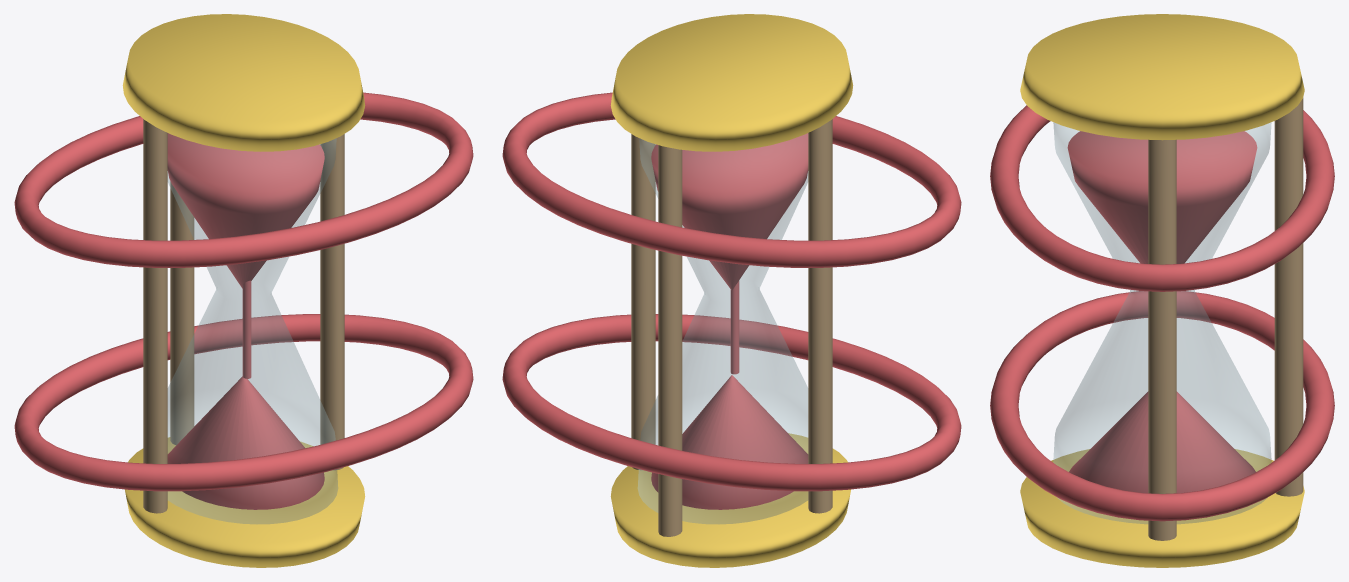
File: time_power.glb
3 renders of one model, left to right at view 1: azimuth 30°, elevation 25°; view 2: azimuth 150°, elevation 25°; view 3: azimuth 270°, elevation 25°, orthographic. The views are drawn at different scales.
Bounding box in the file's own units: 25 × 25 × 17.03.
